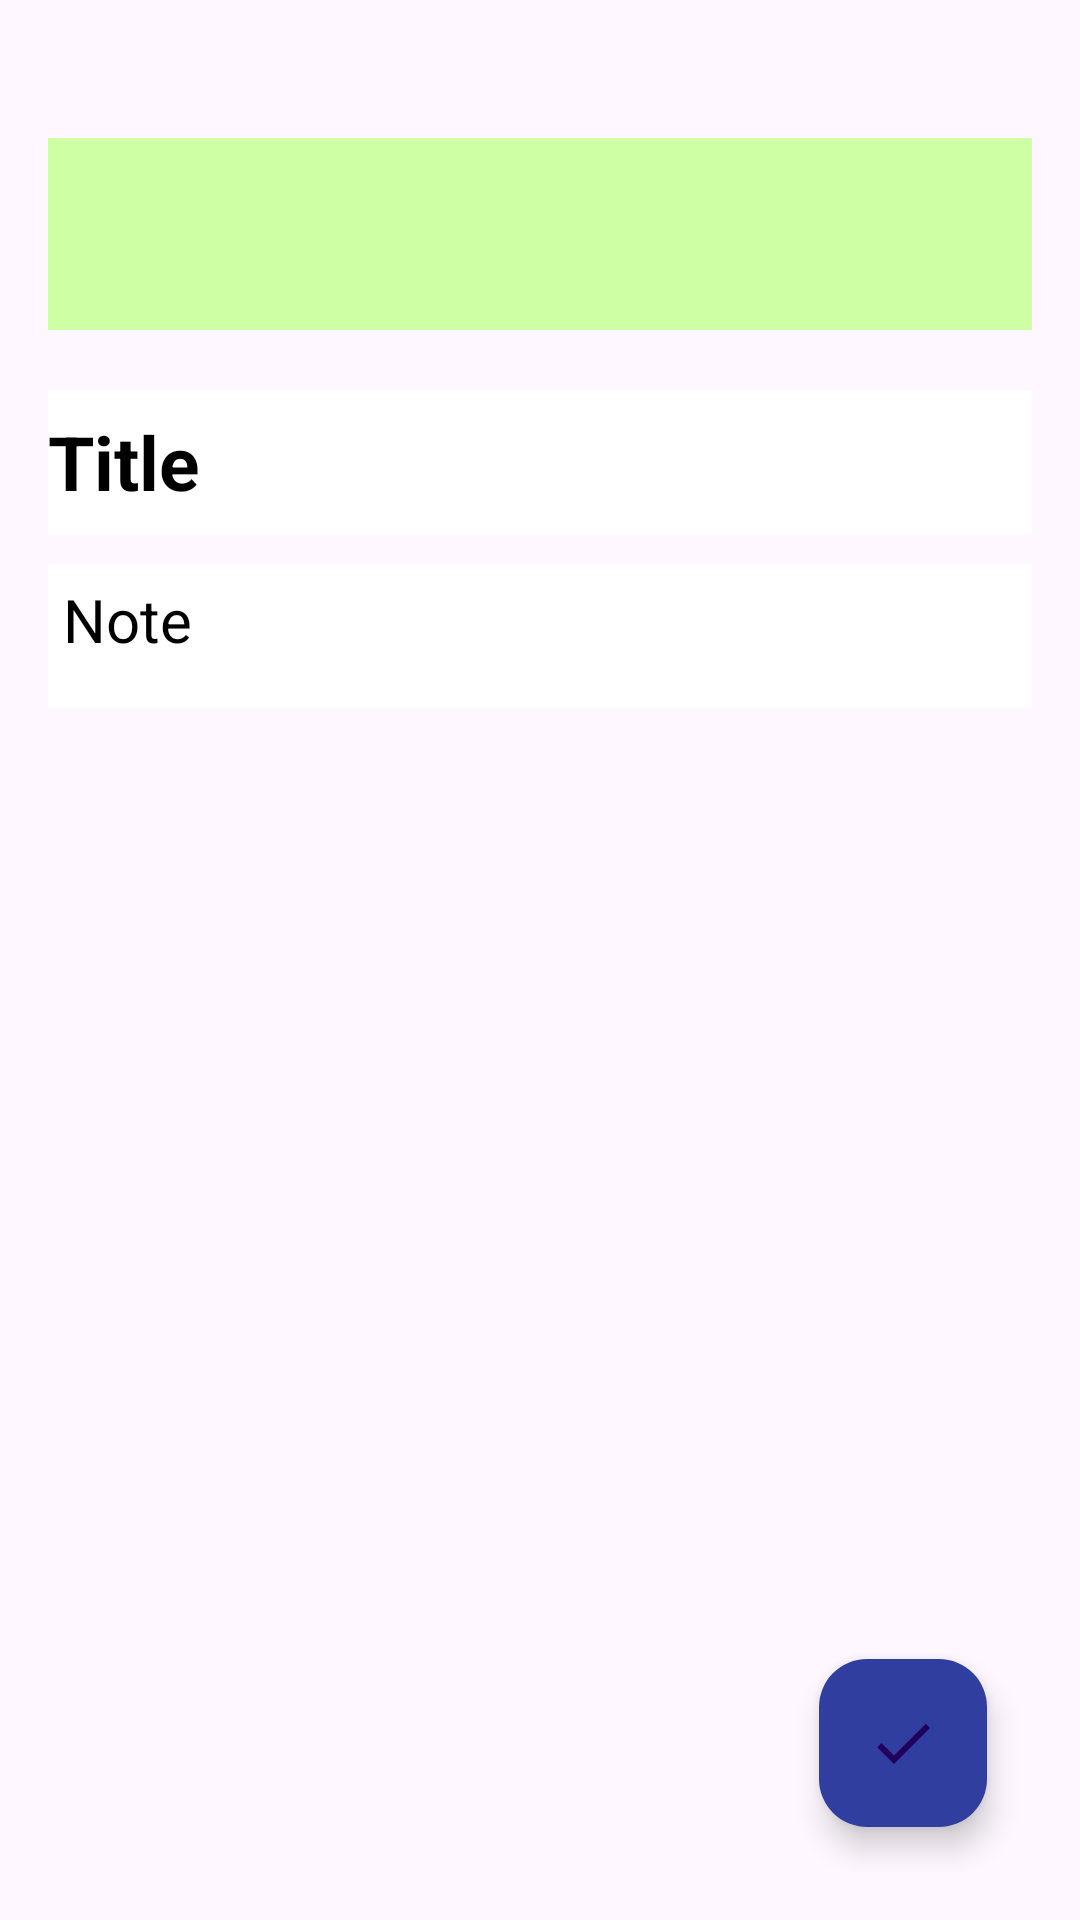

Named icons in this screenshot (1080px x 1920px) and their centers, point (x, y):
check: point (903, 1743)
